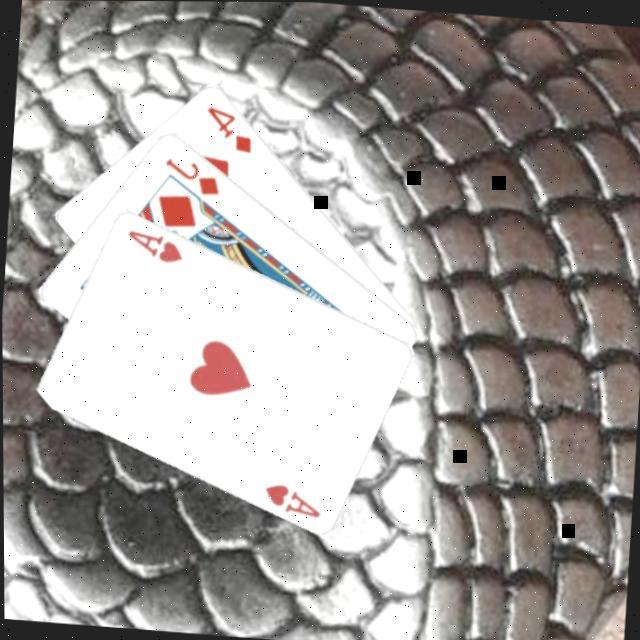4D: (199, 99, 256, 154)
AH: (258, 476, 323, 518), (121, 224, 186, 264)
JD: (158, 150, 224, 197)
